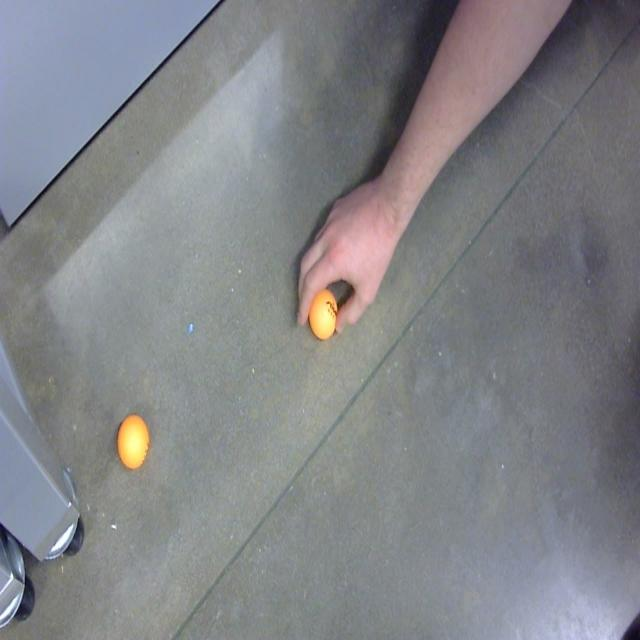ball: (115, 410, 151, 475), (308, 284, 341, 343)
